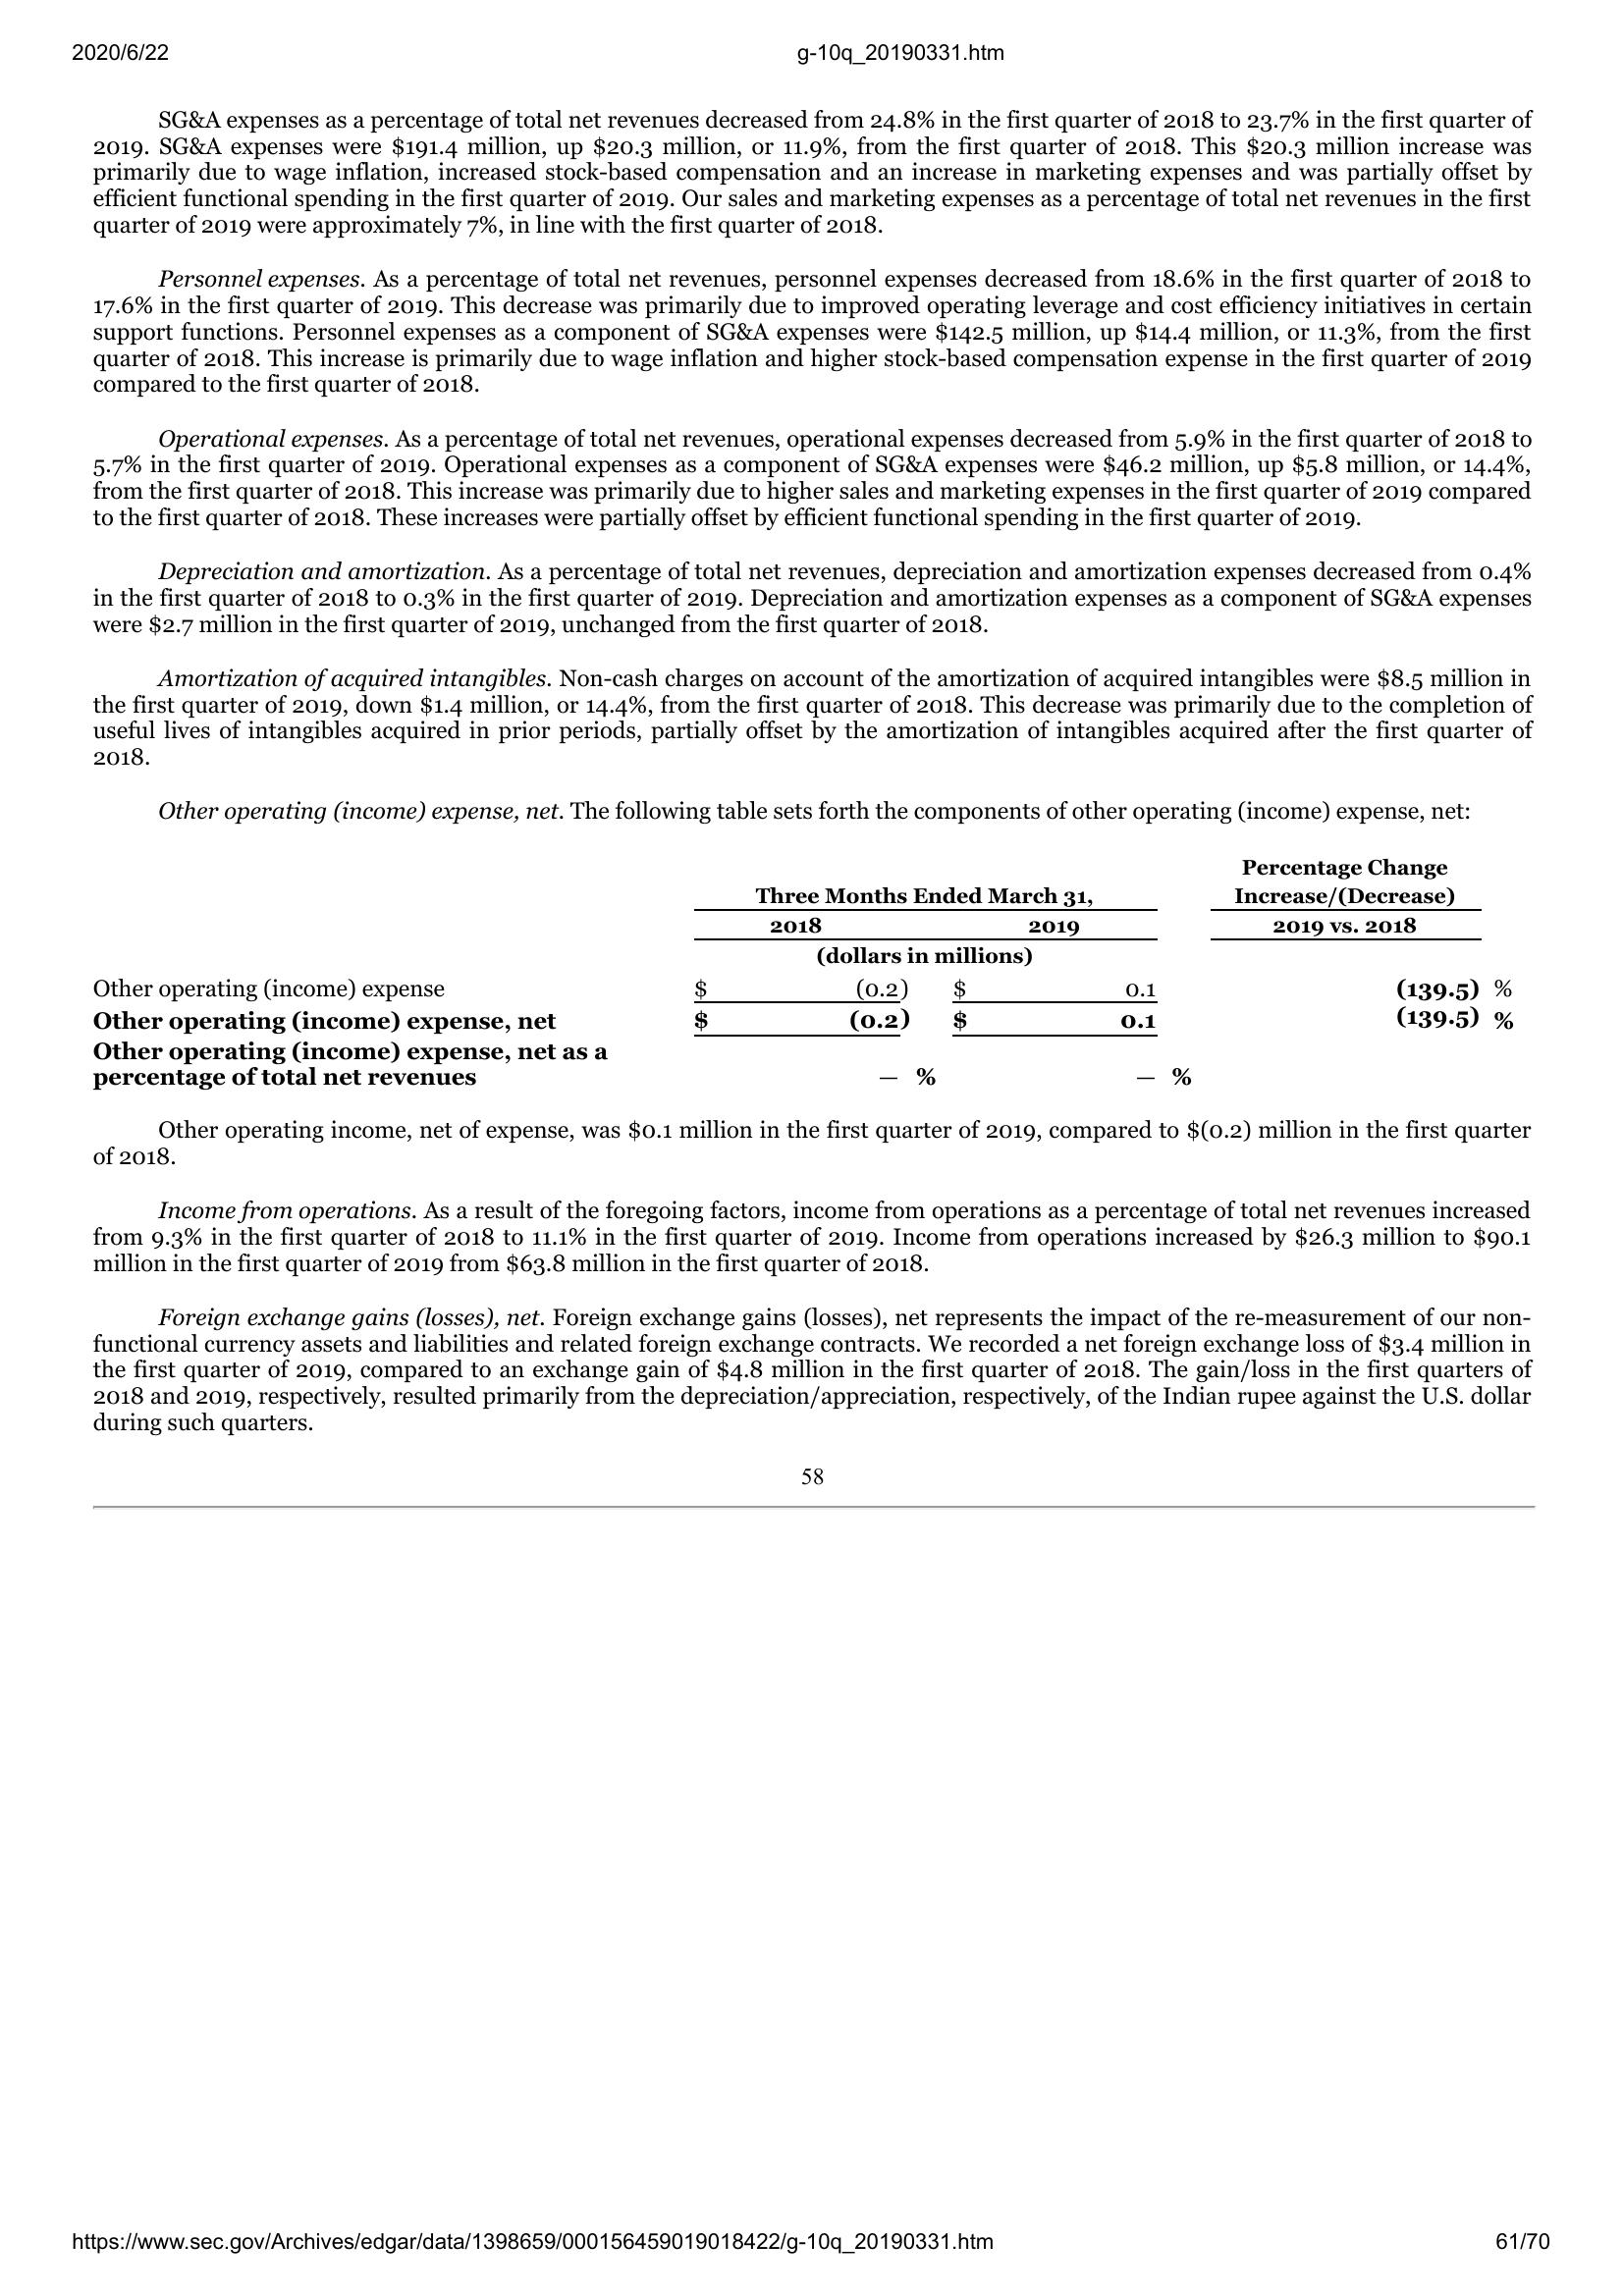table: (83, 853, 1518, 1097)
